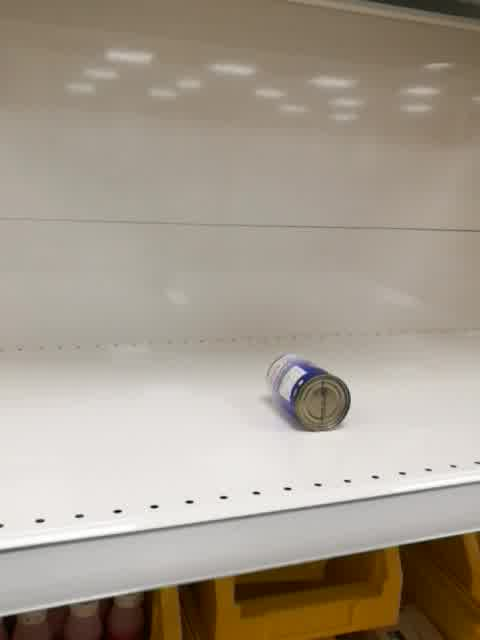sardine: (264, 351, 352, 433)
